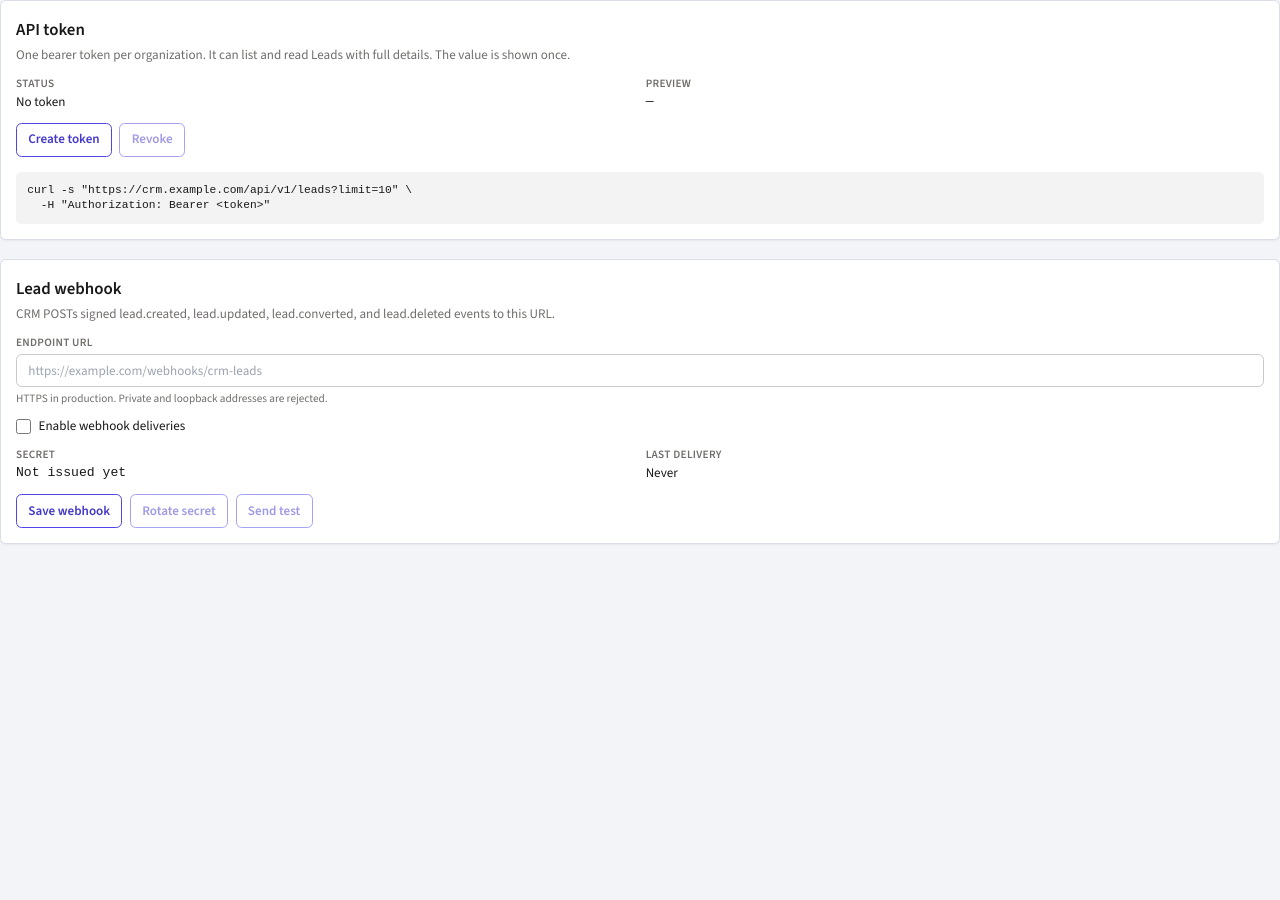
Test case: Organization API access settings › shows a newly issued token once and hides it after dismiss
The width and height of the screenshot is (1280, 900).
Click the button "Create token" at (64, 140), box [16,123,112,157]
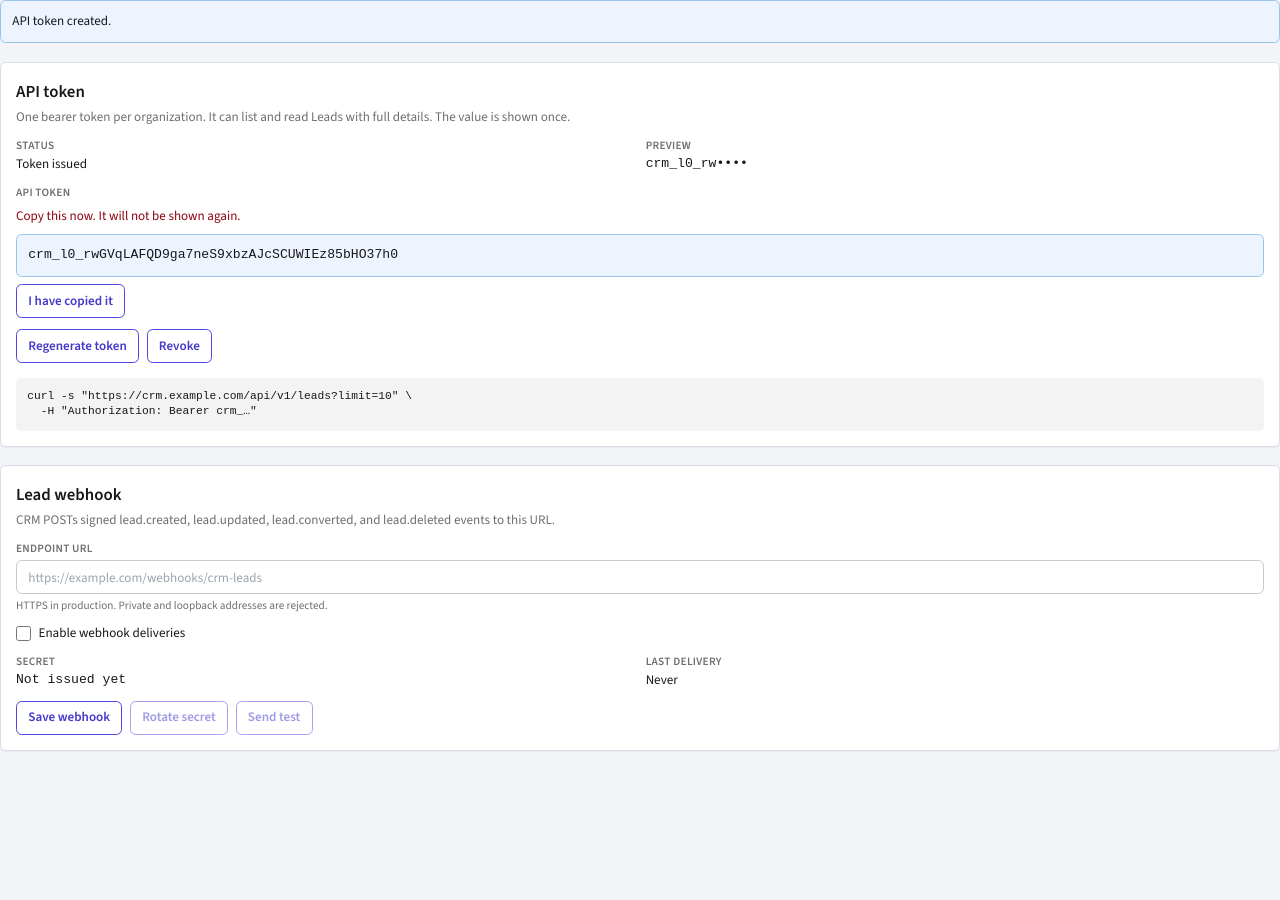
Now the text "crm_l0_rwGVqLAFQD9ga7neS9xbzAJcSCUWIEz85bHO37h0" is shown, box [16,234,1264,277]
Click the button "I have copied it" at (71, 301), box [16,284,125,318]
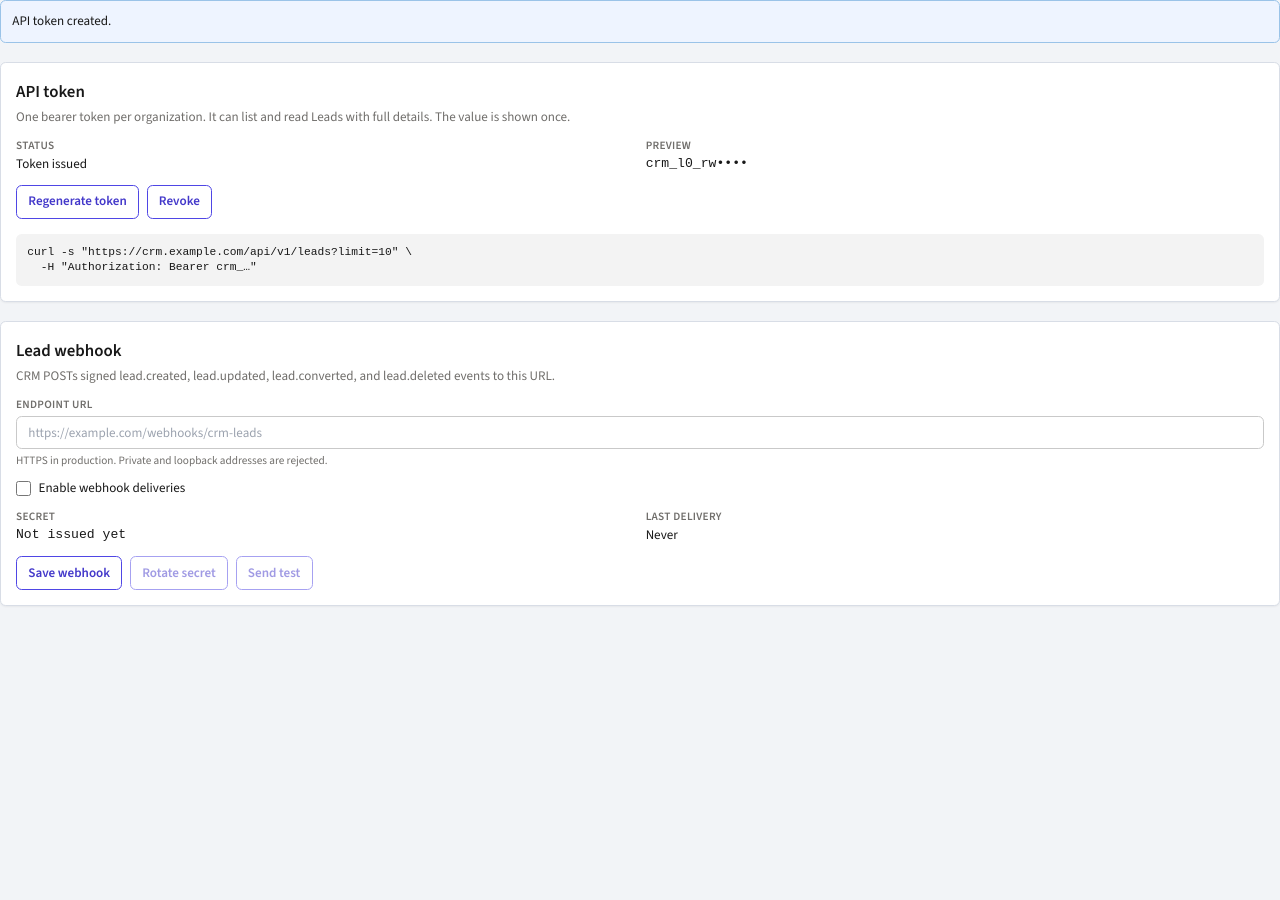
Now the text "crm_l0_rw••••" is shown, box [646,156,748,171]
Now the text "crm_l0_rwGVqLAFQD9ga7neS9xbzAJcSCUWIEz85bHO37h0" is gone
